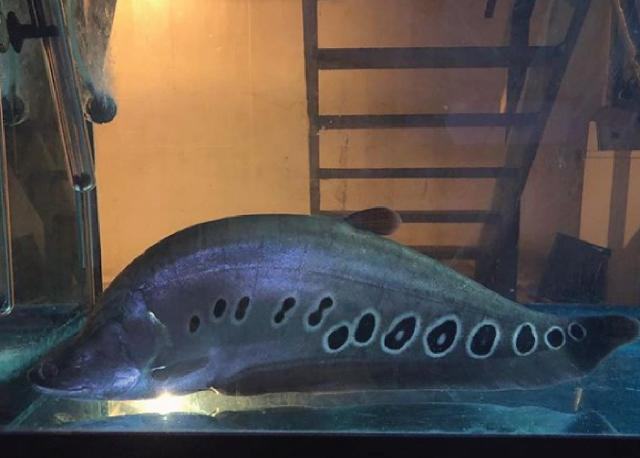Mulut: (17, 350, 101, 412)
Sirip Dada: (142, 355, 222, 393)
Sirip Punggung: (333, 198, 422, 248)
